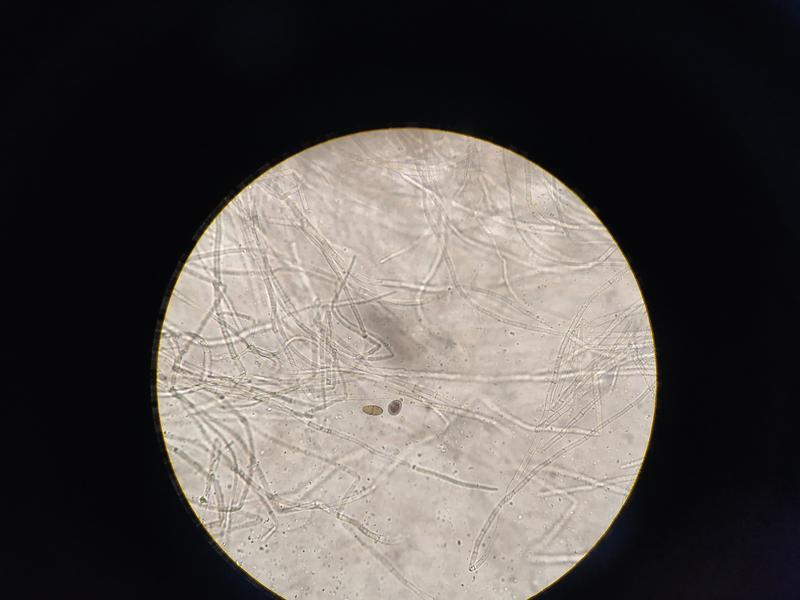fungus: (240, 195, 575, 561)
